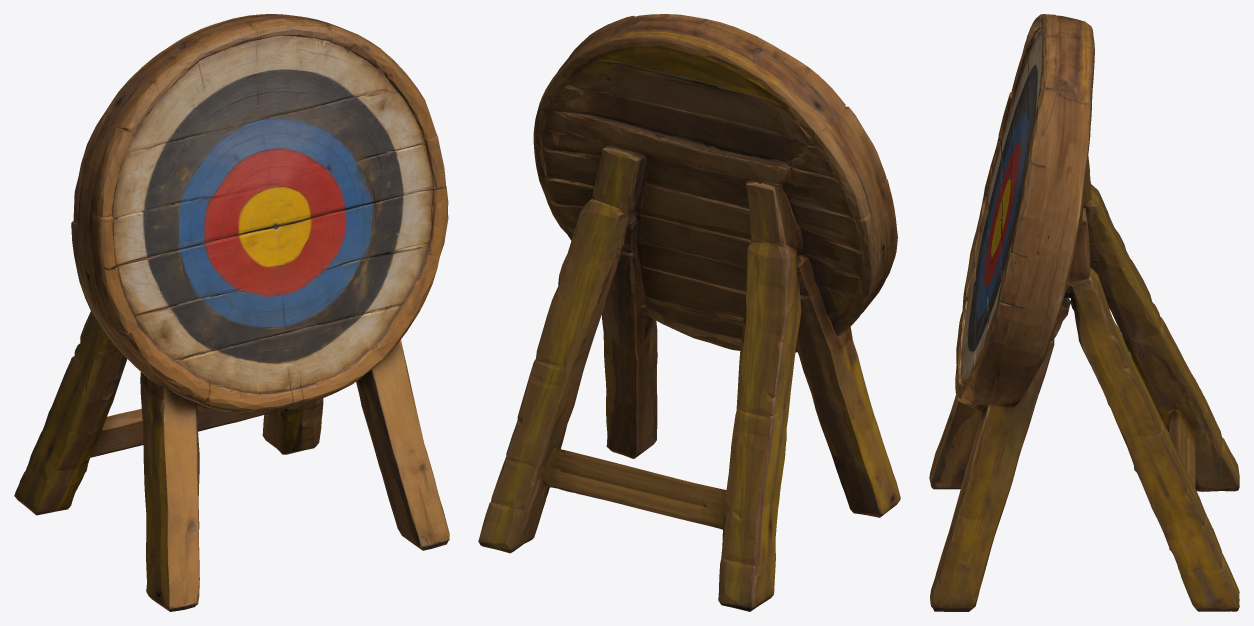
The model's file is archery target.fbx.
3 renders of one model, left to right at view 1: azimuth 30°, elevation 25°; view 2: azimuth 150°, elevation 25°; view 3: azimuth 270°, elevation 25°, orthographic. The views are drawn at different scales.
Visible parts, largest first — view 1: temp; view 2: temp; view 3: temp.
Part boxes in pixels (x1,y1,x2,y2): temp: (14, 14, 449, 611); temp: (478, 14, 900, 611); temp: (929, 14, 1239, 611).
Size of the model in its own units: 143 by 200 by 111.
